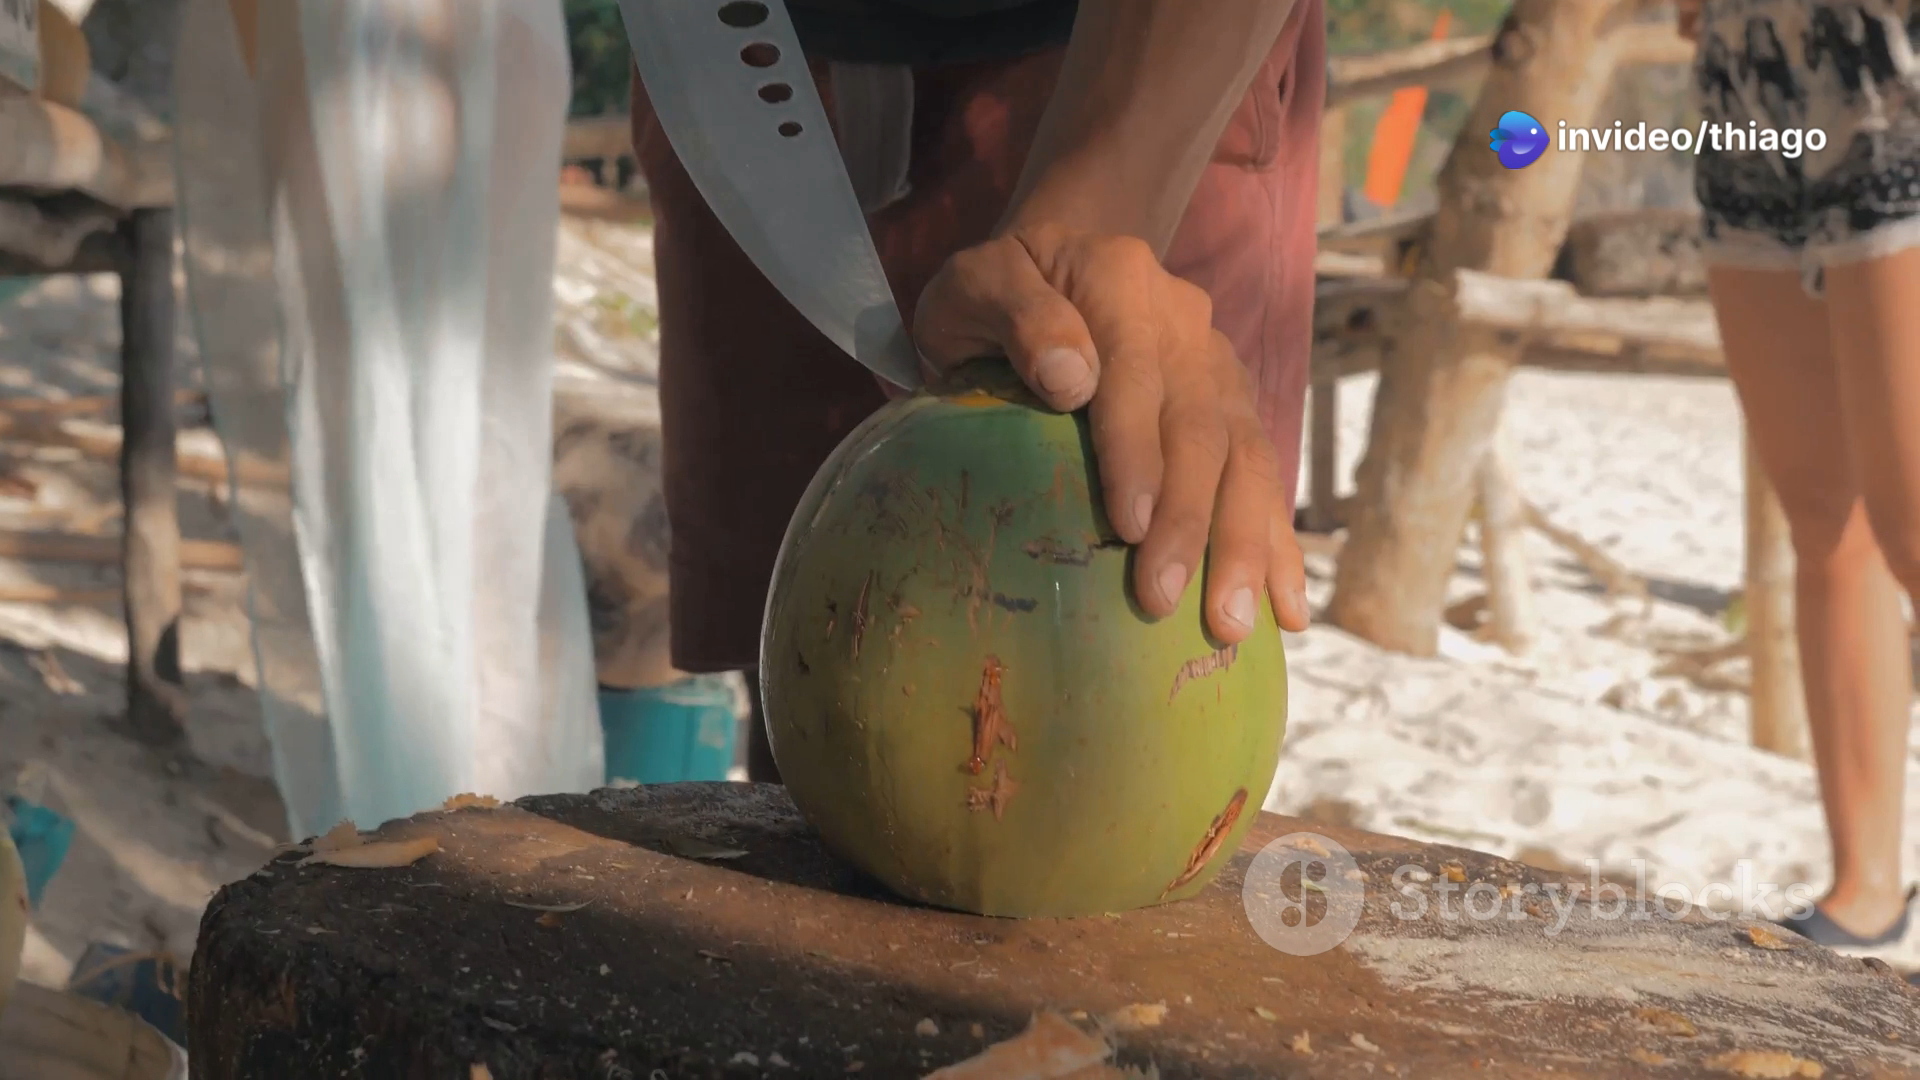cortante: (620, 0, 926, 393)
